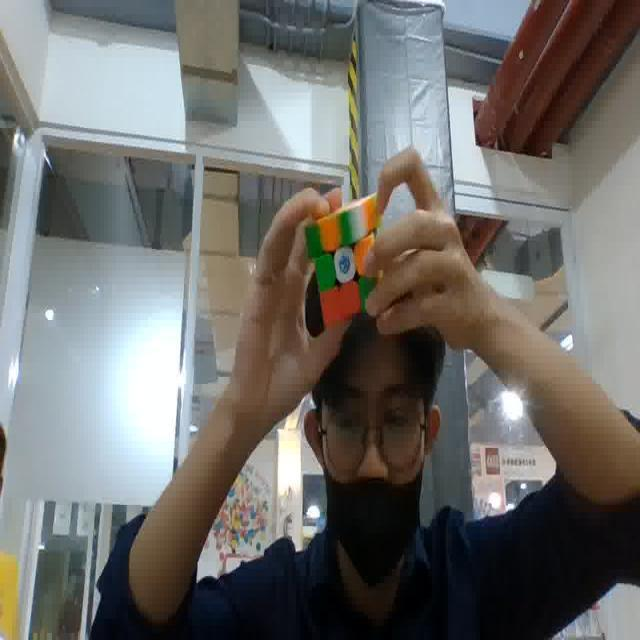Rub: (303, 194, 383, 328)
